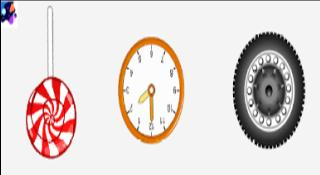Circle: (229, 27, 307, 151), (114, 34, 185, 149), (23, 73, 79, 163)
